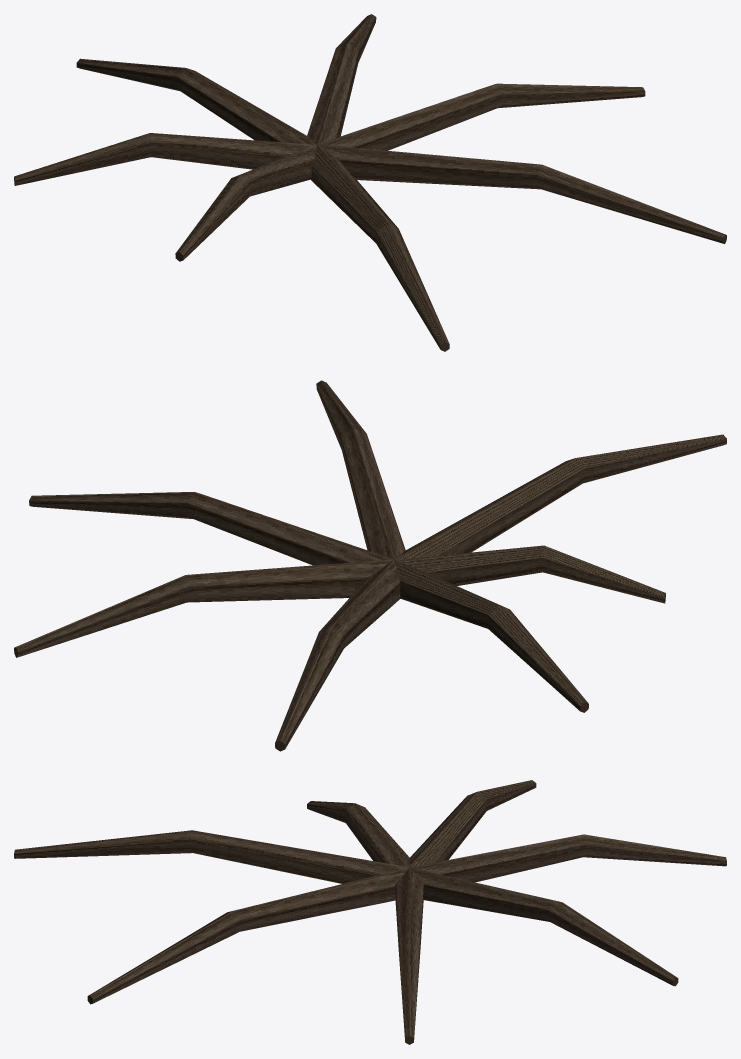
Rendered from env_ground_13_roots_spreading.glb.
3 renders of one model, top to bottom at view 1: azimuth 30°, elevation 25°; view 2: azimuth 150°, elevation 25°; view 3: azimuth 270°, elevation 25°, orthographic. The views are drawn at different scales.
Parts seen in each view (by area): view 1: solid; view 2: solid; view 3: solid.
Part boxes in pixels (bbox=[...]): solid: bbox=[14, 14, 726, 351]; solid: bbox=[14, 380, 726, 751]; solid: bbox=[14, 780, 726, 1044].
Size of the model in its own units: 0.9635 by 0.082 by 1.13.
1 material, 1 textured.
